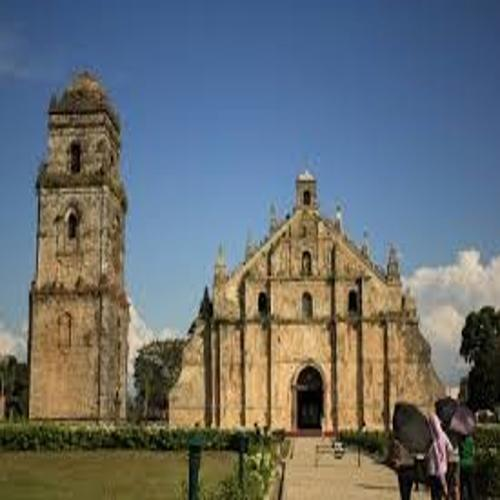Paoay Church: (16, 50, 449, 451)
